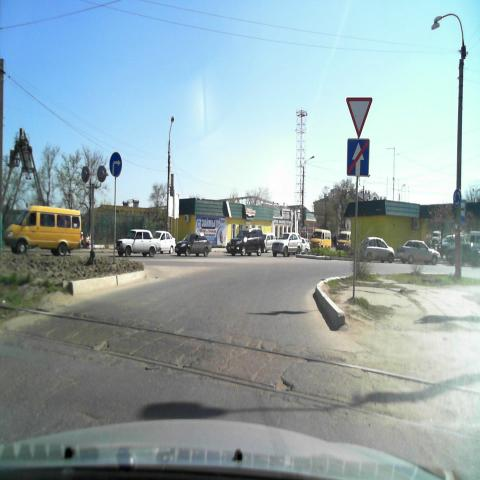4_3: (452, 186, 462, 204)
